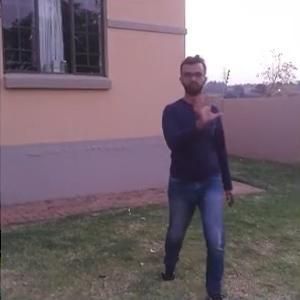follow_hand: (195, 92, 224, 125)
